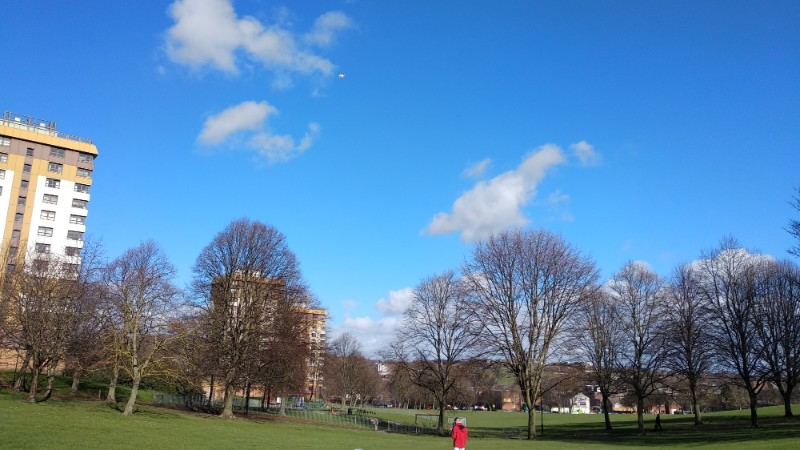drone: (337, 72, 346, 81)
